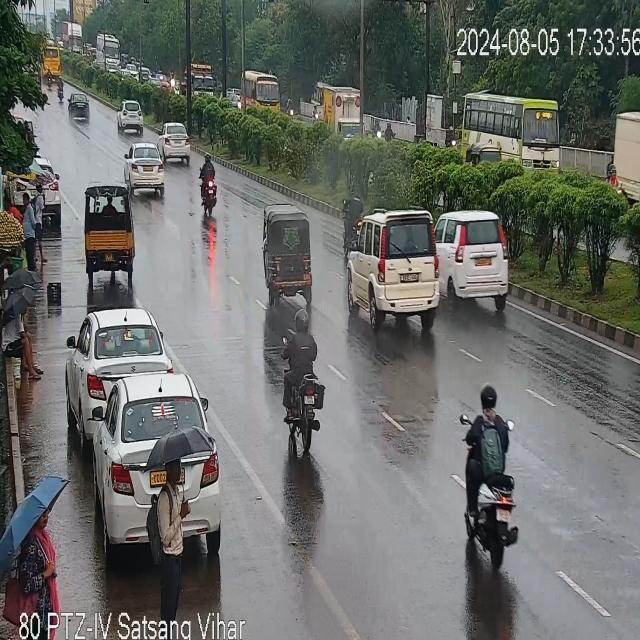2-wheelers: (276, 318, 326, 454), (194, 156, 227, 212)
auto: (262, 210, 316, 300), (86, 187, 138, 277)
bus: (462, 94, 562, 174), (241, 72, 283, 112)
car: (87, 374, 227, 559), (70, 310, 168, 428), (348, 210, 441, 330), (440, 214, 514, 312), (126, 142, 168, 192), (158, 123, 198, 165), (117, 99, 148, 133), (66, 88, 90, 118)
pedestrian: (466, 382, 512, 534), (152, 456, 194, 604), (3, 308, 41, 378), (20, 195, 45, 277)
truck: (611, 114, 640, 207), (318, 85, 360, 134)
